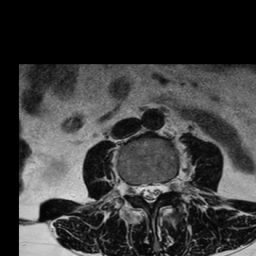CCS_normal: (147, 175, 154, 212)
LFS_normal: (163, 172, 172, 197)
LLS_normal: (154, 175, 163, 203)
RFS_normal: (131, 175, 139, 203)
RLS_normal: (139, 177, 147, 205)
